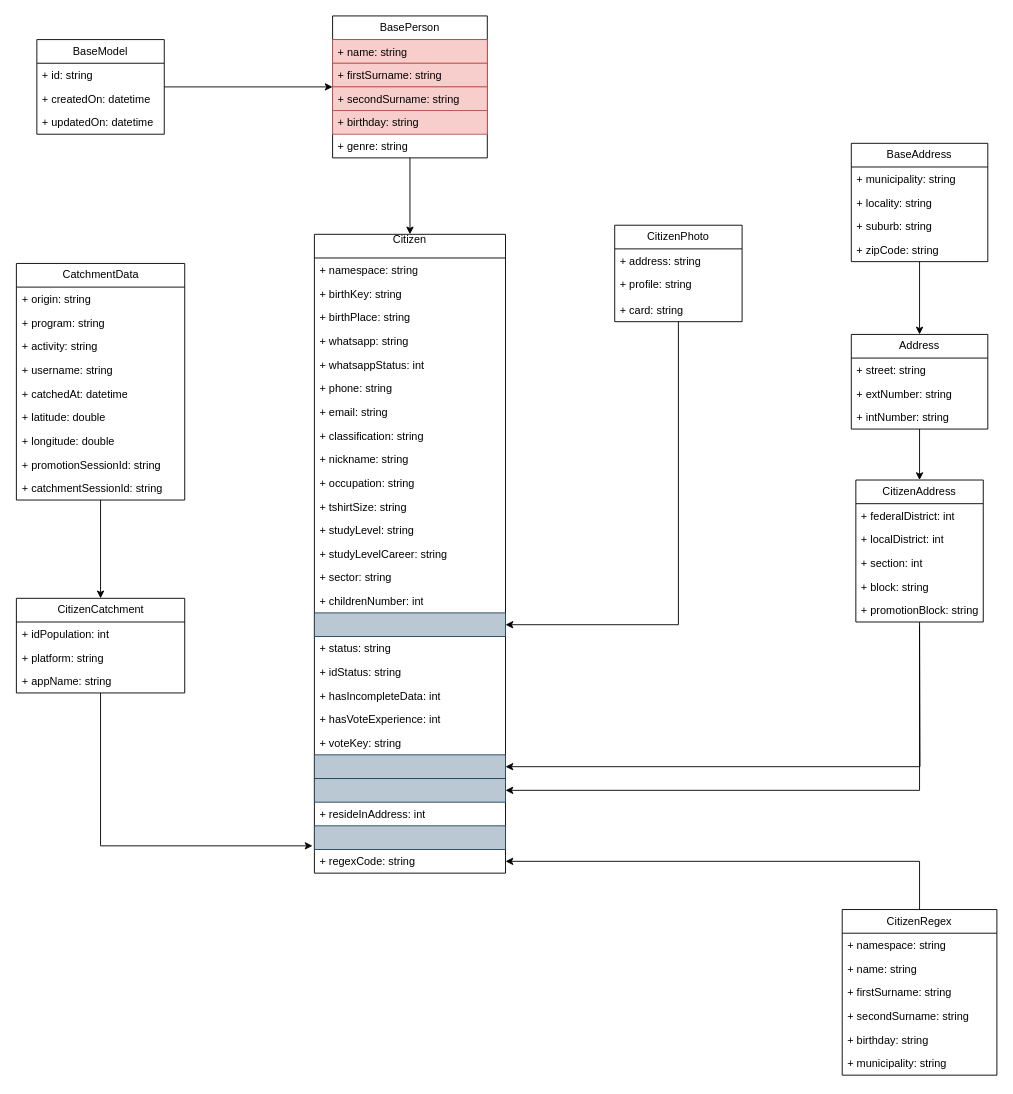
Image size: 1013x1094. Some labels were removed from this diagram. The centre of each missing label's shape, as x and y in pixels:
"+ address: CitizenAddress" belongs at [409,790].
"+ catchment: CitizenCatchment" belongs at [409,837].
"+ photo: CitizenPhoto" belongs at [409,624].
"+ voteAddress: CitizenAddress" belongs at [409,766].
